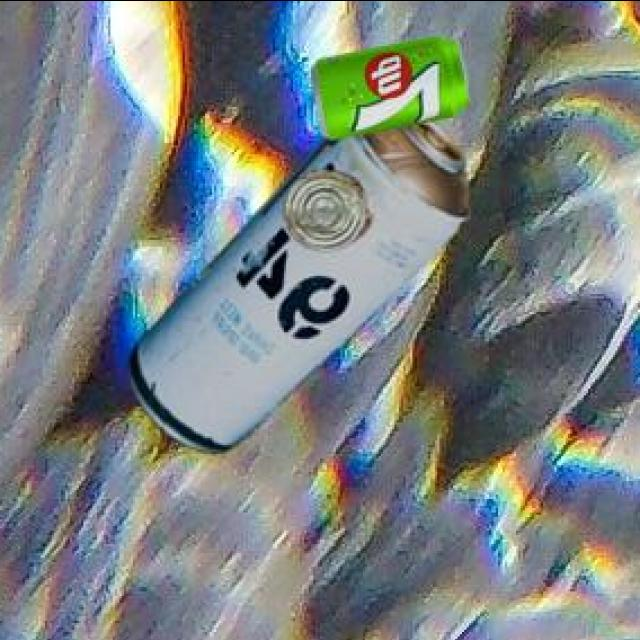logam: (132, 123, 472, 456), (314, 39, 474, 141), (287, 172, 373, 254)
